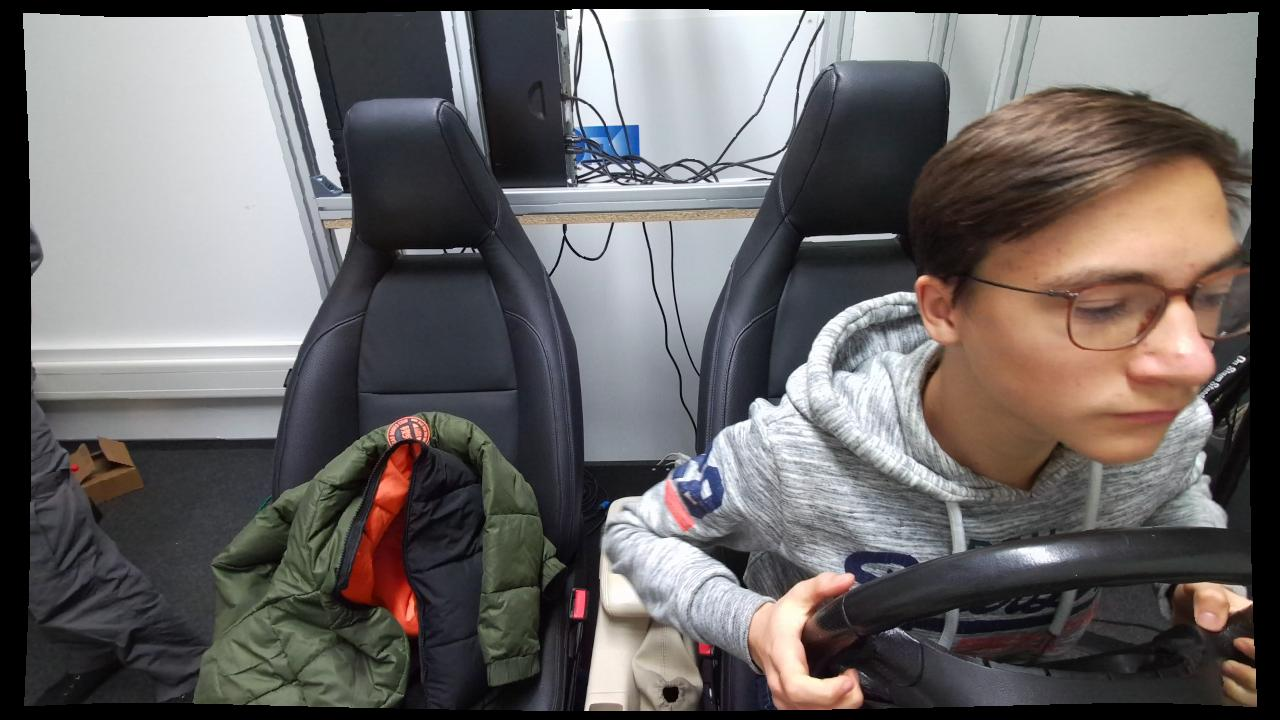Distracted: (607, 80, 1255, 710)
